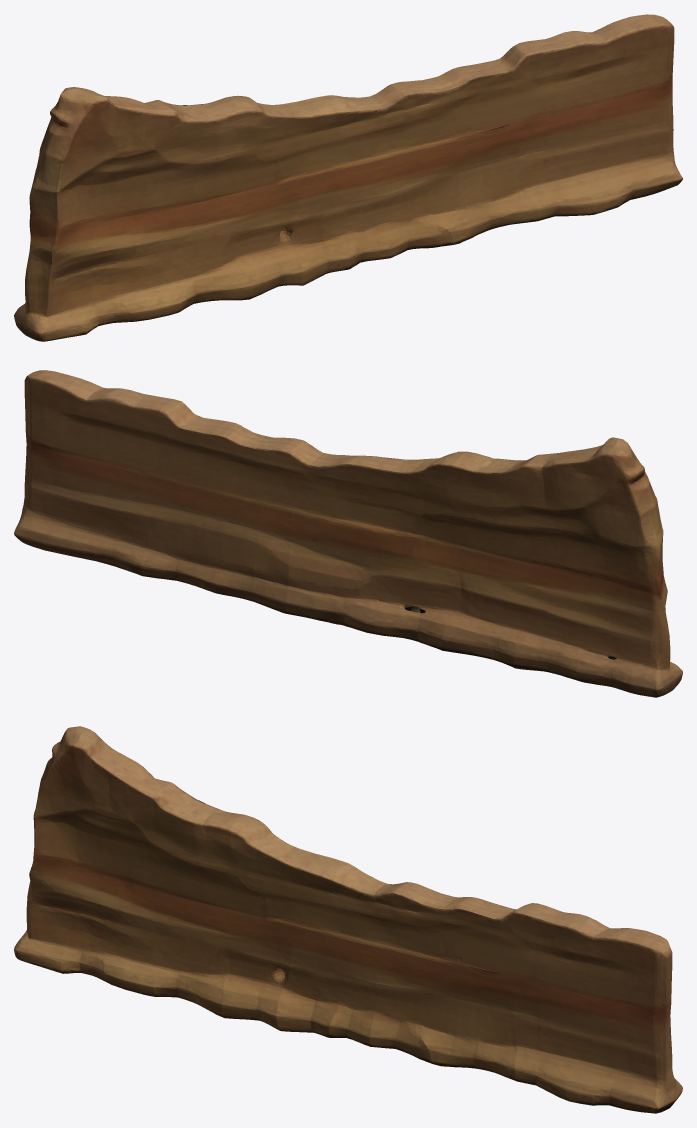
The picture shows the model from 3 angles, top to bottom: view 1: azimuth 30°, elevation 25°; view 2: azimuth 150°, elevation 25°; view 3: azimuth 330°, elevation 25°; orthographic projection.
Visible parts, largest first — view 1: geometry_0, SANDSTONE_FRONT_CONTINUOUS_SKIN; view 2: geometry_0; view 3: geometry_0, SANDSTONE_FRONT_CONTINUOUS_SKIN.
Part boxes in pixels (x1=…): geometry_0: x1=14, y1=14, x2=682, y2=341; SANDSTONE_FRONT_CONTINUOUS_SKIN: x1=452, y1=79, x2=543, y2=139; geometry_0: x1=14, y1=370, x2=682, y2=697; geometry_0: x1=14, y1=726, x2=682, y2=1113; SANDSTONE_FRONT_CONTINUOUS_SKIN: x1=442, y1=925, x2=534, y2=985.
Bounding box in the file's own units: 1 × 0.3521 × 0.083.
2 materials, 1 textured.
